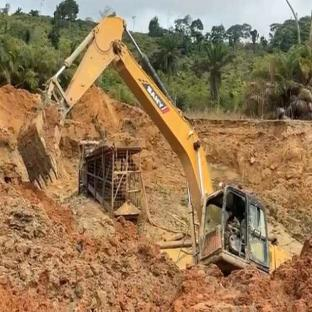ExcavationMachinery: (14, 12, 291, 275)
ProcessingEquipment: (80, 135, 146, 220)
